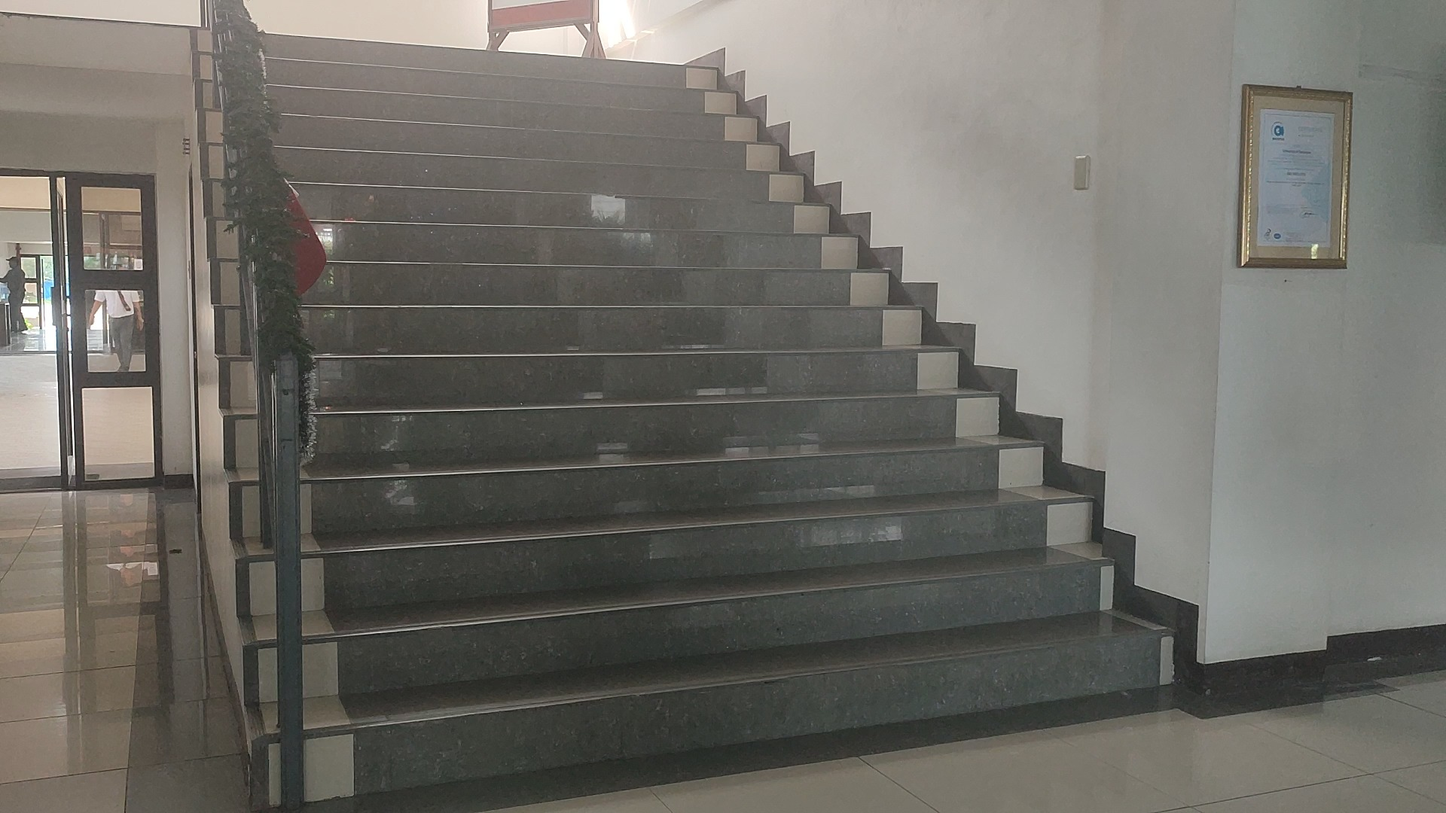Staircase: (183, 33, 1171, 810)
